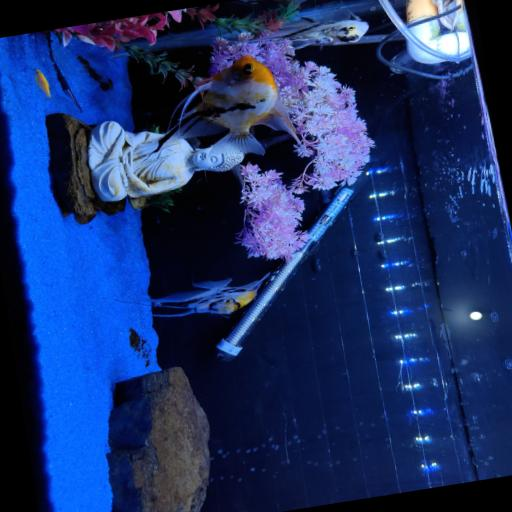Fish: (177, 54, 297, 154), (142, 273, 268, 316), (253, 9, 368, 48), (34, 69, 50, 97)
